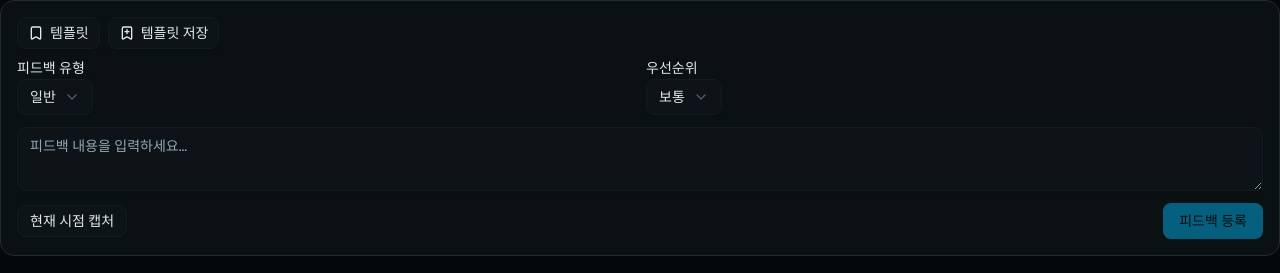
Test: FeedbackForm › shows timecode after capture
The image size is (1280, 273).
Click the button "현재 시점 캡처".
click(72, 221)  # box [17,205,127,237]
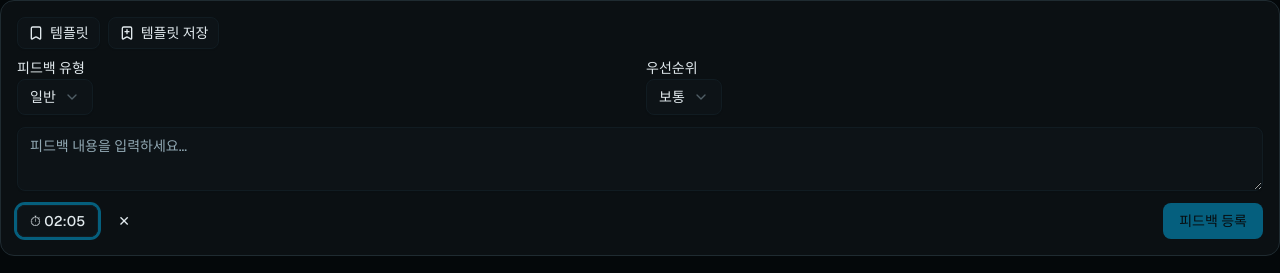
Expected: the button "⏱ 02:05" is shown, [17,205,98,237]
